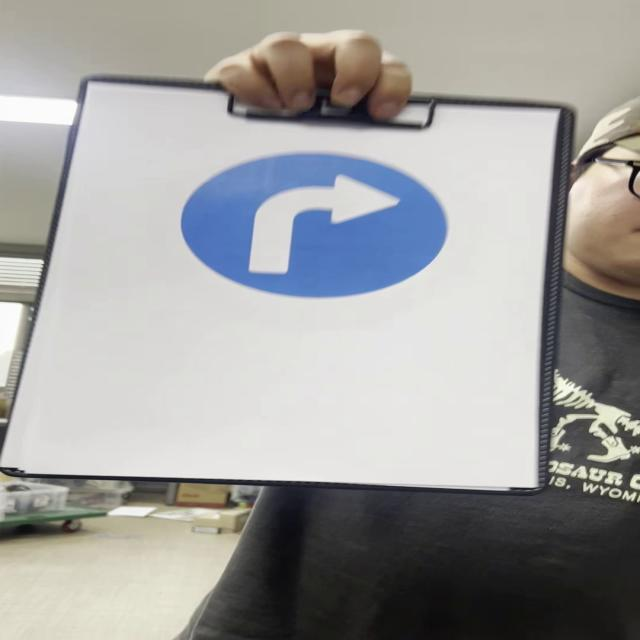right: (184, 150, 449, 300)
